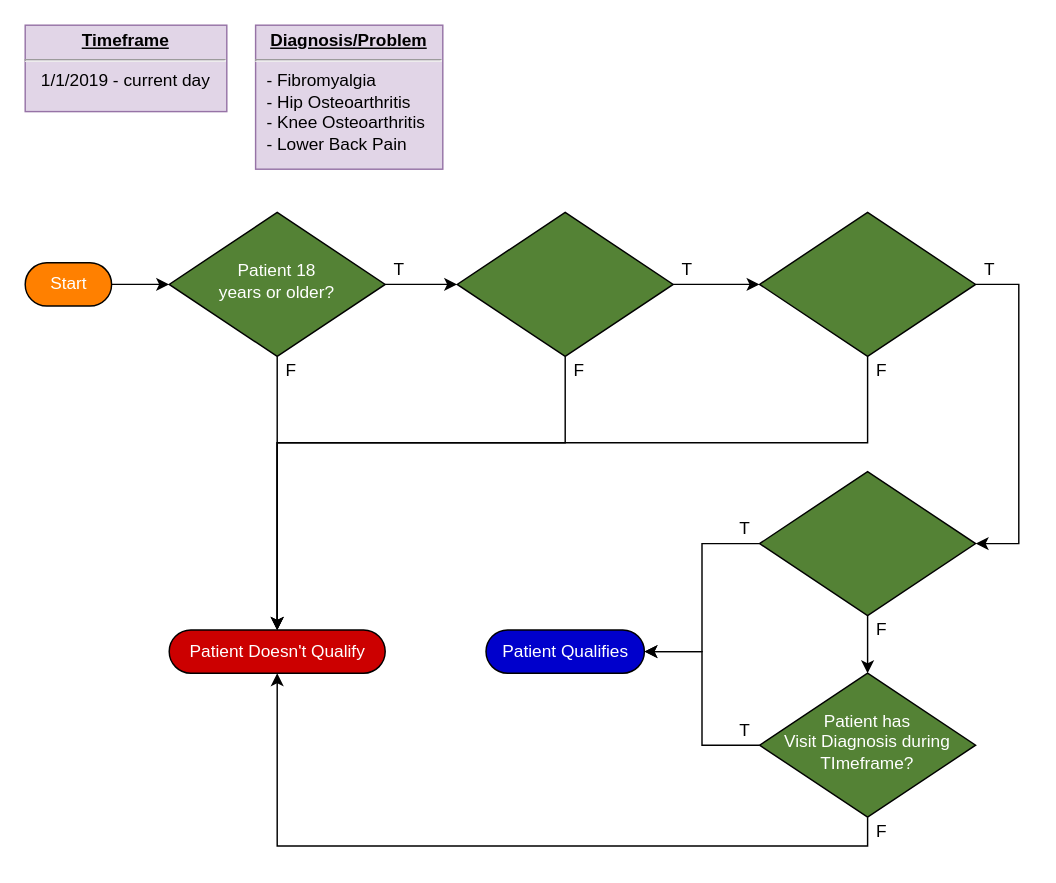
Some shapes in this 1056 by 883 pixel diagram are drawn without their labels. The box of each missing label's shape, as (x1, y1, x2, y2) in pixels:
Patient English speaking?: (456, 211, 673, 356)
Patient has Active Problem in problem list?: (758, 470, 976, 616)
Patient has Office visit during Timeframe?: (758, 211, 976, 356)
